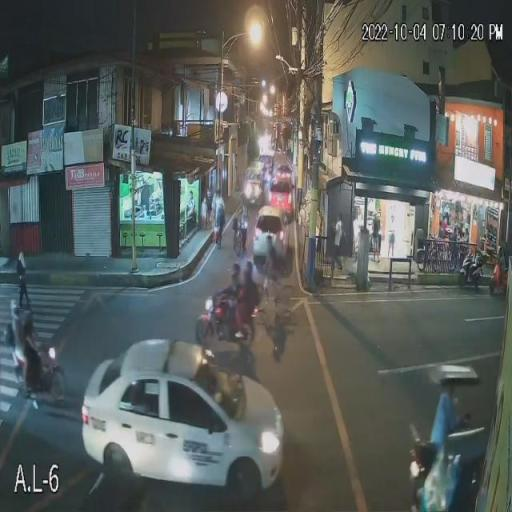helmet: (21, 304, 36, 335), (8, 294, 23, 323), (238, 259, 258, 280), (227, 257, 244, 281)
motorcycle: (8, 339, 74, 410), (196, 295, 265, 348)
rider: (9, 324, 42, 402), (216, 280, 243, 343), (239, 276, 263, 343)
